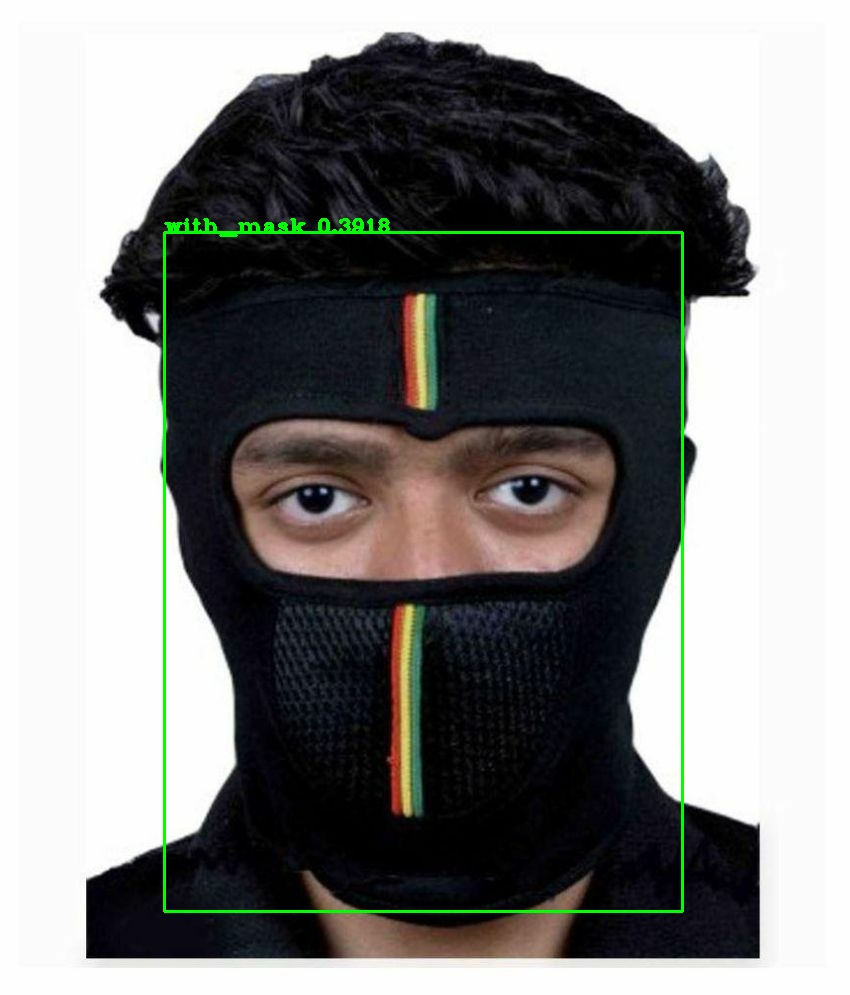with_mask: (137, 280, 709, 915)
